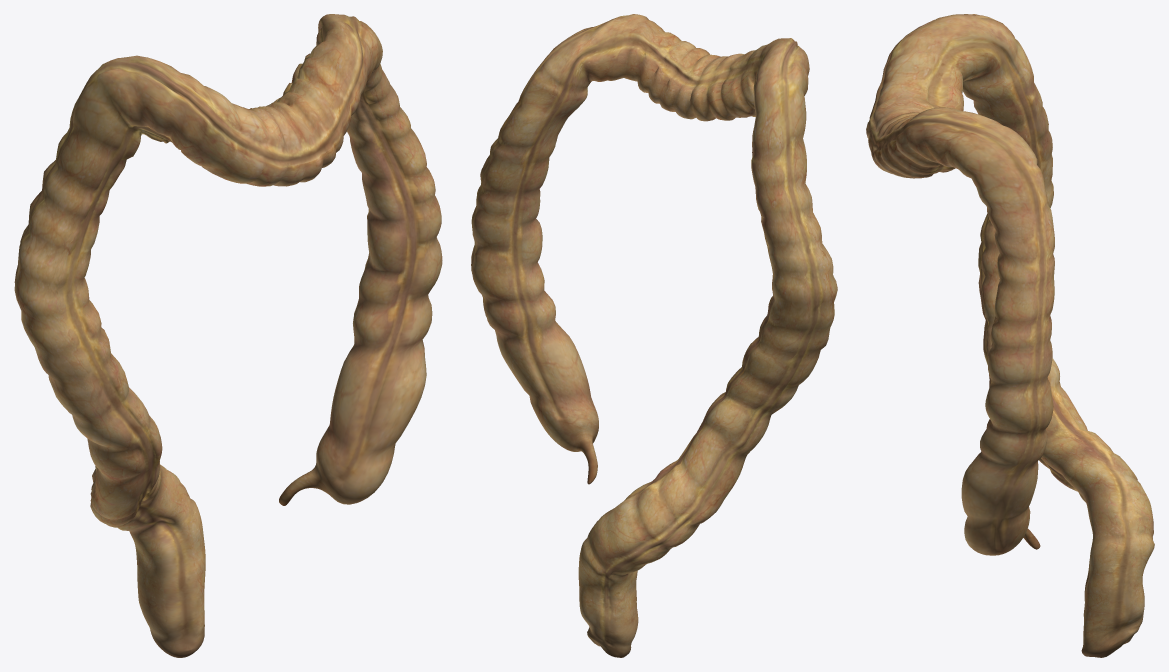
The model's file is intestino_grueso.fbx.
The picture shows the model from 3 angles, left to right: view 1: azimuth 30°, elevation 25°; view 2: azimuth 150°, elevation 25°; view 3: azimuth 270°, elevation 25°; orthographic projection. The views are drawn at different scales.
Parts seen in each view (by area): view 1: Colon; view 2: Colon; view 3: Colon.
Part boxes in pixels (bbox=[...]): Colon: bbox=[14, 14, 442, 657]; Colon: bbox=[471, 14, 837, 657]; Colon: bbox=[866, 14, 1154, 657].
Size of the model in its own units: 236 by 365 by 161.
Materials: 1 (1 with a texture image).
